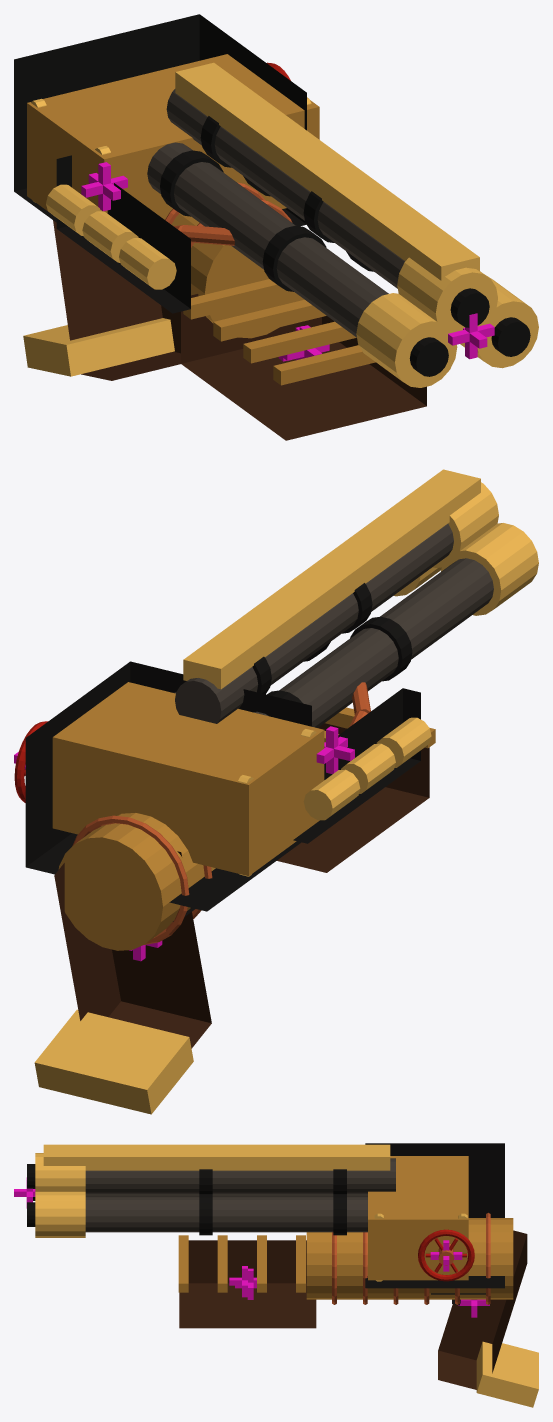
File: WPN_SteamScattergun_Viewmodel_Blockout.obj
The picture shows the model from 3 angles, top to bottom: view 1: azimuth 30°, elevation 25°; view 2: azimuth 150°, elevation 25°; view 3: azimuth 270°, elevation 25°; orthographic projection. The views are drawn at different scales.
Visible parts, largest first — view 1: BODY_BrassSidePlates, BODY_BrassTopRib, MOVING_PumpGrip_Walnut, BODY_BlackenedRearReceiver, BARREL_TripleCluster_01, GRIP_DominantWalnutGrip, BARREL_TripleCluster_03, GRIP_BrassButtPlate, RACK_LeftSlugBracket, BARREL_BrassSawedMuzzle_01, CHAMBER_RearPressureTank, BARREL_BrassSawedMuzzle_03 (+18 smaller); view 2: BODY_BrassSidePlates, BODY_BrassTopRib, CHAMBER_RearPressureTank, GRIP_DominantWalnutGrip, GRIP_BrassButtPlate, BARREL_TripleCluster_01, BODY_BlackenedRearReceiver, BARREL_TripleCluster_03, MOVING_PumpGrip_Walnut, RACK_LeftSlugBracket, BARREL_BrassSawedMuzzle_01, BARREL_BrassSawedMuzzle_03 (+6 smaller); view 3: BODY_BrassSidePlates, BARREL_TripleCluster_02, MOVING_PumpGrip_Walnut, BODY_BrassTopRib, CHAMBER_RearPressureTank, BARREL_TripleCluster_03, BODY_BlackenedRearReceiver, GRIP_DominantWalnutGrip, GRIP_BrassButtPlate, BARREL_BrassSawedMuzzle_02, BARREL_BrassSawedMuzzle_03, VALVE_RightSlugLockWheel_rim (+14 smaller).
Part boxes in pixels (left/top/right/bottom): BODY_BrassSidePlates: left=27, top=54, right=319, bottom=219; BODY_BrassTopRib: left=175, top=62, right=479, bottom=280; MOVING_PumpGrip_Walnut: left=181, top=294, right=426, bottom=440; BODY_BlackenedRearReceiver: left=14, top=14, right=306, bottom=226; BARREL_TripleCluster_01: left=147, top=142, right=388, bottom=337; GRIP_DominantWalnutGrip: left=53, top=220, right=180, bottom=380; BARREL_TripleCluster_03: left=166, top=89, right=404, bottom=288; GRIP_BrassButtPlate: left=23, top=318, right=174, bottom=376; RACK_LeftSlugBracket: left=56, top=155, right=190, bottom=313; BARREL_BrassSawedMuzzle_01: left=356, top=293, right=457, bottom=387; CHAMBER_RearPressureTank: left=171, top=213, right=304, bottom=338; BARREL_BrassSawedMuzzle_03: left=397, top=257, right=497, bottom=332; BODY_BrassSidePlates: left=52, top=682, right=324, bottom=876; BODY_BrassTopRib: left=183, top=469, right=480, bottom=689; CHAMBER_RearPressureTank: left=58, top=813, right=215, bottom=950; GRIP_DominantWalnutGrip: left=54, top=851, right=211, bottom=1048; GRIP_BrassButtPlate: left=34, top=1009, right=193, bottom=1114; BARREL_TripleCluster_01: left=253, top=558, right=493, bottom=727; BODY_BlackenedRearReceiver: left=25, top=661, right=311, bottom=911; BARREL_TripleCluster_03: left=175, top=523, right=453, bottom=723; MOVING_PumpGrip_Walnut: left=277, top=723, right=429, bottom=872; RACK_LeftSlugBracket: left=293, top=688, right=420, bottom=843; BARREL_BrassSawedMuzzle_01: left=441, top=523, right=538, bottom=615; BARREL_BrassSawedMuzzle_03: left=433, top=482, right=498, bottom=567; BODY_BrassSidePlates: left=368, top=1156, right=468, bottom=1280; BARREL_TripleCluster_02: left=85, top=1196, right=367, bottom=1232; MOVING_PumpGrip_Walnut: left=179, top=1240, right=316, bottom=1328; BODY_BrassTopRib: left=43, top=1144, right=390, bottom=1170; CHAMBER_RearPressureTank: left=306, top=1218, right=513, bottom=1299; BARREL_TripleCluster_03: left=85, top=1158, right=395, bottom=1193; BODY_BlackenedRearReceiver: left=365, top=1143, right=504, bottom=1288; GRIP_DominantWalnutGrip: left=438, top=1230, right=527, bottom=1389; GRIP_BrassButtPlate: left=476, top=1341, right=538, bottom=1407; BARREL_BrassSawedMuzzle_02: left=35, top=1191, right=85, bottom=1237; BARREL_BrassSawedMuzzle_03: left=35, top=1153, right=85, bottom=1191; VALVE_RightSlugLockWheel_rim: left=418, top=1229, right=474, bottom=1281.
Size of the model in its own units: 0.3883 by 0.4712 by 0.9391.
